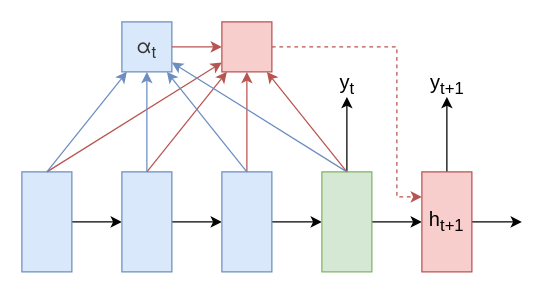
Image size: 554x294. Some labels were removed from this diagram. The centre of each missing label's shape, as x and y in pixels:
c t: the point at 246,46
h t: the point at 346,221
